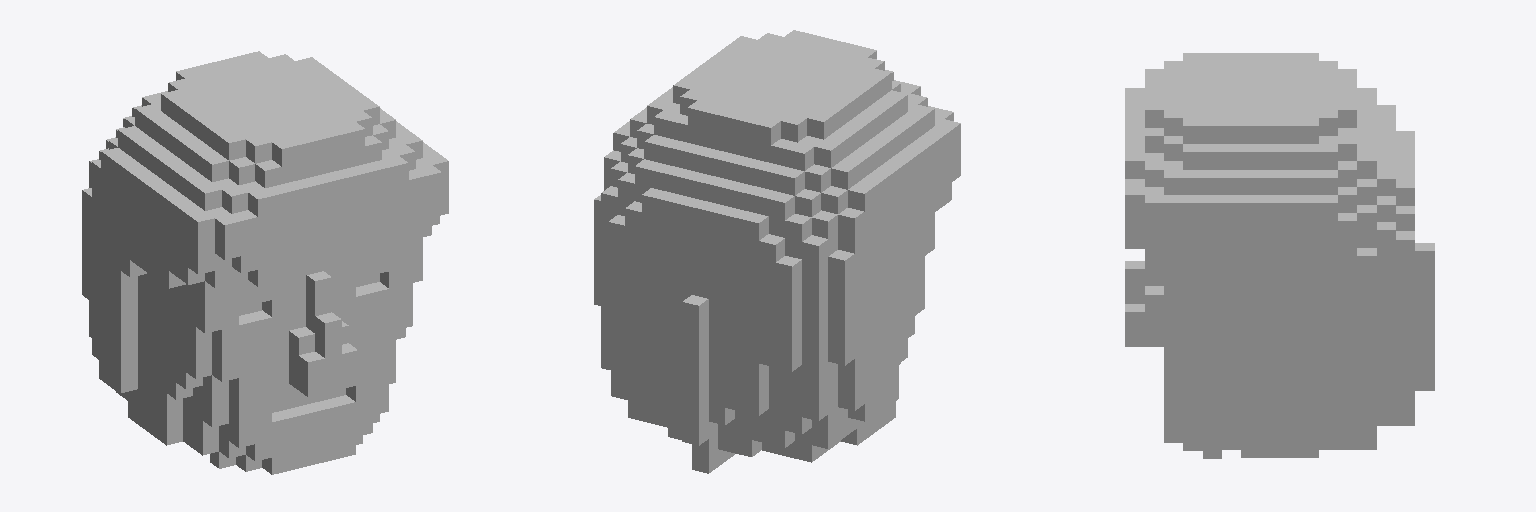
File: robot_head.obj
The picture shows the model from 3 angles: view 1: azimuth 30°, elevation 25°; view 2: azimuth 150°, elevation 25°; view 3: azimuth 270°, elevation 25°; orthographic projection.
Parts seen in each view (by area): view 1: robot_head; view 2: robot_head; view 3: robot_head.
Part boxes in pixels (x1,y1,x2,y2): robot_head: (82,51,448,474); robot_head: (594,30,960,473); robot_head: (1125,53,1434,458).
Size of the model in its own units: 15 by 19 by 16.